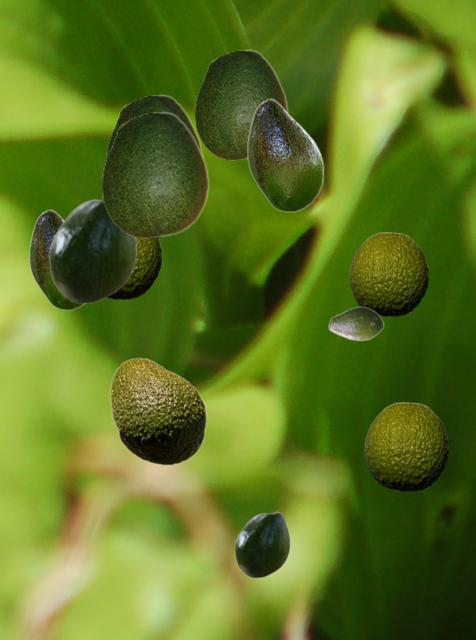avocado: (101, 111, 208, 237), (109, 357, 206, 465), (194, 49, 287, 159), (48, 198, 136, 303), (247, 98, 323, 211), (364, 402, 447, 490), (349, 232, 427, 315), (105, 94, 202, 159), (29, 209, 85, 309), (234, 511, 289, 577), (107, 238, 160, 298), (328, 306, 383, 340)
